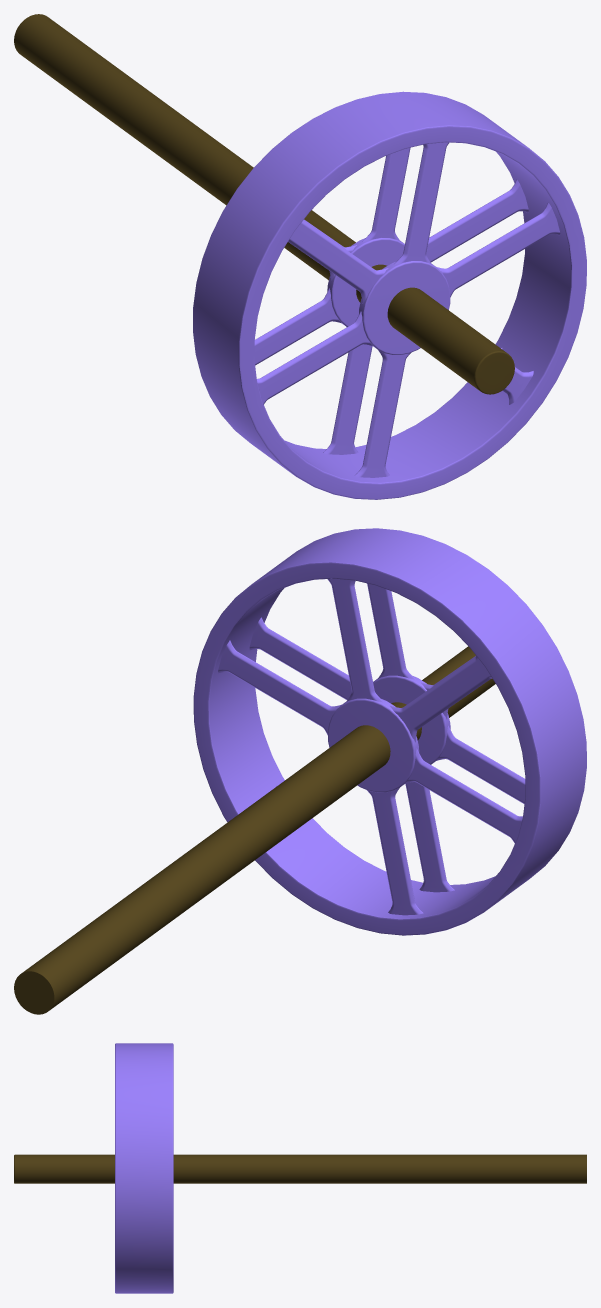
The model's file is !PH_LowerWheel.fbx.
3 renders of one model, top to bottom at view 1: azimuth 30°, elevation 25°; view 2: azimuth 150°, elevation 25°; view 3: azimuth 270°, elevation 25°, orthographic. The views are drawn at different scales.
Parts seen in each view (by area): view 1: polySurface1032, polySurface1015; view 2: polySurface1032, polySurface1015; view 3: polySurface1015, polySurface1032.
Boxes of the visible parts, left/top/right/bottom form: polySurface1032: left=193, top=91, right=586, bottom=499; polySurface1015: left=14, top=14, right=514, bottom=394; polySurface1032: left=193, top=528, right=586, bottom=935; polySurface1015: left=14, top=646, right=495, bottom=1014; polySurface1015: left=14, top=1154, right=586, bottom=1183; polySurface1032: left=115, top=1043, right=173, bottom=1293.
Bounding box in the file's own units: 3.12 × 7.14 × 3.12.
